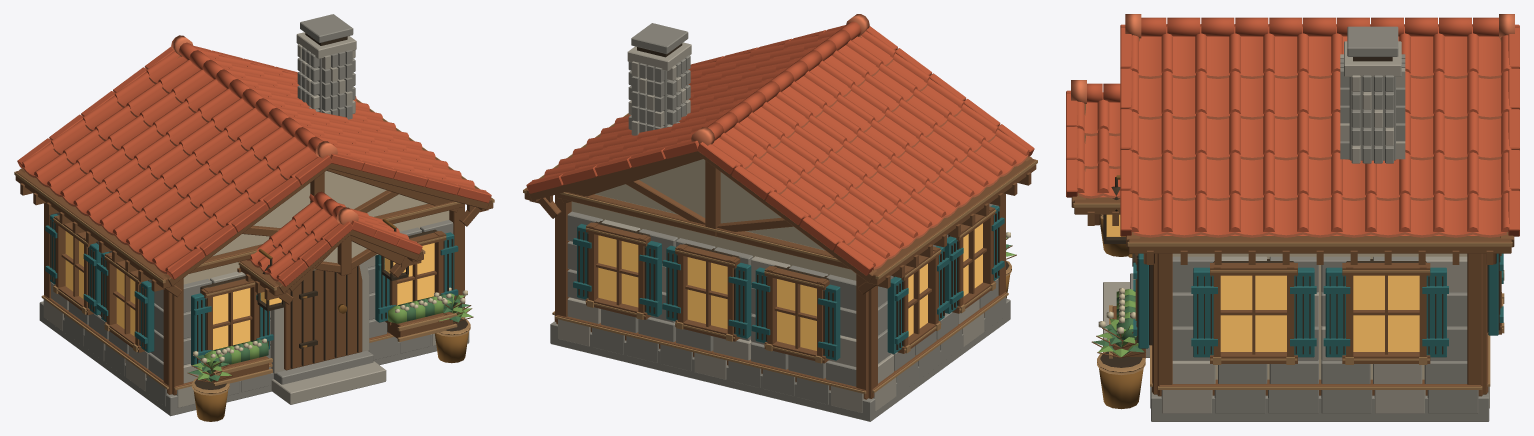
3 views of the same model, side by side, from view 1: azimuth 30°, elevation 25°; view 2: azimuth 150°, elevation 25°; view 3: azimuth 270°, elevation 25° (orthographic). The views are drawn at different scales.
Visible parts, largest first — view 1: alpine_hotel_1_geometry, alpine_hotel_1_geometry ceramic; view 2: alpine_hotel_1_geometry, alpine_hotel_1_geometry ceramic; view 3: alpine_hotel_1_geometry ceramic, alpine_hotel_1_geometry.
Boxes of the visible parts, x1,y1,x2,y2 form: alpine_hotel_1_geometry: [14, 14, 494, 421]; alpine_hotel_1_geometry ceramic: [17, 35, 491, 286]; alpine_hotel_1_geometry: [523, 23, 1037, 421]; alpine_hotel_1_geometry ceramic: [526, 14, 1034, 275]; alpine_hotel_1_geometry ceramic: [1066, 14, 1519, 237]; alpine_hotel_1_geometry: [1071, 26, 1514, 421].
Size of the model in its own units: 0.99 by 0.7631 by 0.8986.
